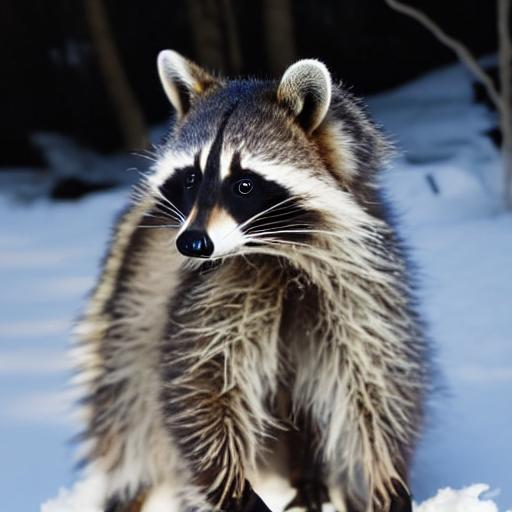raccoon: (68, 38, 460, 492)
